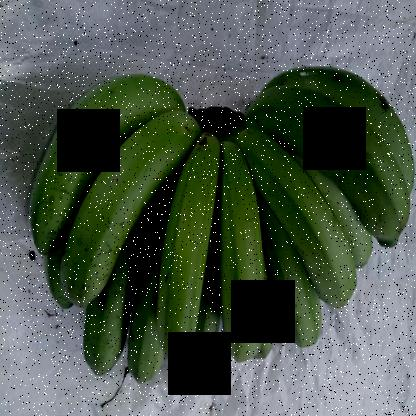freshunripe: (228, 135, 361, 310), (147, 130, 226, 376), (213, 136, 272, 371)
unripe: (20, 57, 186, 254), (52, 108, 199, 310), (247, 92, 413, 247), (79, 243, 143, 385)
